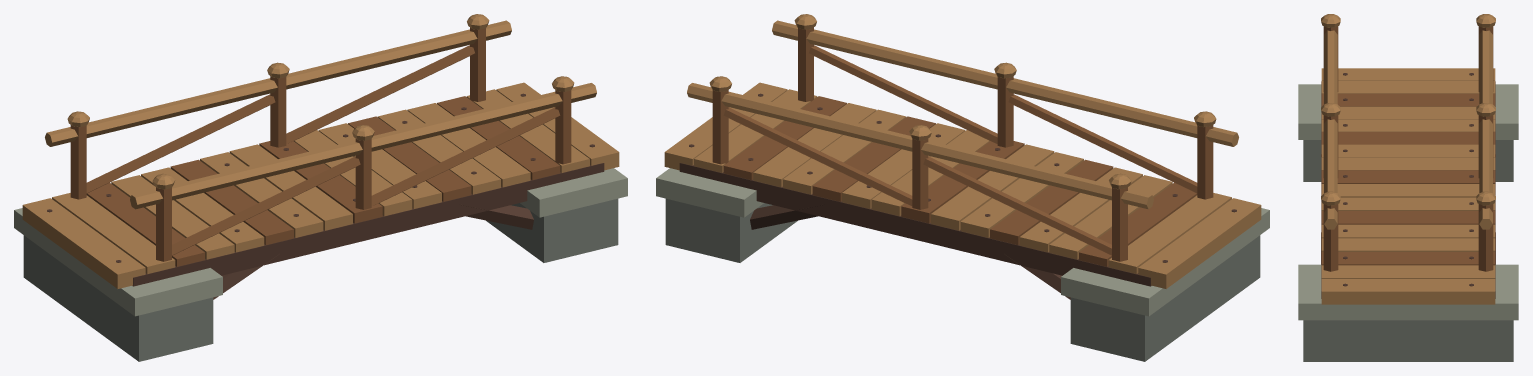
The model's file is bridge.glb.
3 renders of one model, left to right at view 1: azimuth 30°, elevation 25°; view 2: azimuth 150°, elevation 25°; view 3: azimuth 270°, elevation 25°, orthographic. The views are drawn at different scales.
Visible parts, largest first — view 1: body; view 2: body; view 3: body.
Part boxes in pixels (x1,y1,x2,y2): body: (14, 14, 627, 361); body: (656, 14, 1269, 361); body: (1298, 14, 1518, 361).
Size of the model in its own units: 3.64 by 1.15 by 1.52.
